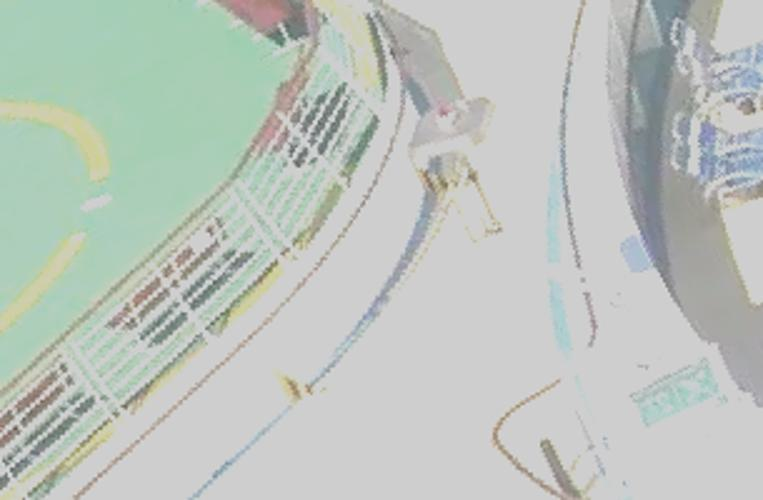Apron: (1, 49, 124, 348)
